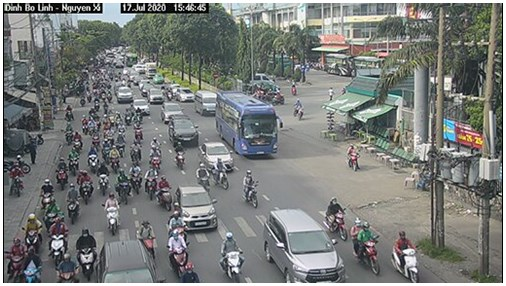di_bo: (23, 137, 40, 166)
xe_buyt: (215, 88, 283, 160)
xe_hoi: (265, 208, 346, 281), (173, 183, 219, 233), (169, 113, 198, 147), (202, 140, 232, 170), (160, 101, 183, 125), (134, 96, 152, 115)
xe_khach: (193, 88, 217, 117)
xe_may: (76, 225, 97, 280), (166, 229, 191, 275), (135, 217, 158, 258), (4, 238, 26, 280), (100, 192, 122, 234), (48, 216, 68, 262), (23, 212, 44, 254), (242, 168, 262, 209), (40, 176, 57, 213), (66, 182, 81, 223), (156, 176, 173, 211), (10, 161, 25, 197), (345, 142, 361, 173), (174, 140, 187, 170), (108, 142, 120, 173), (56, 155, 67, 188), (86, 143, 98, 172), (129, 138, 142, 164), (67, 146, 78, 175)
